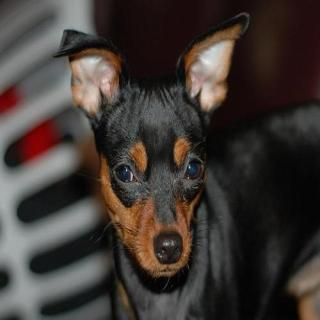dog: (55, 12, 259, 294)
nose: (146, 228, 192, 266)
